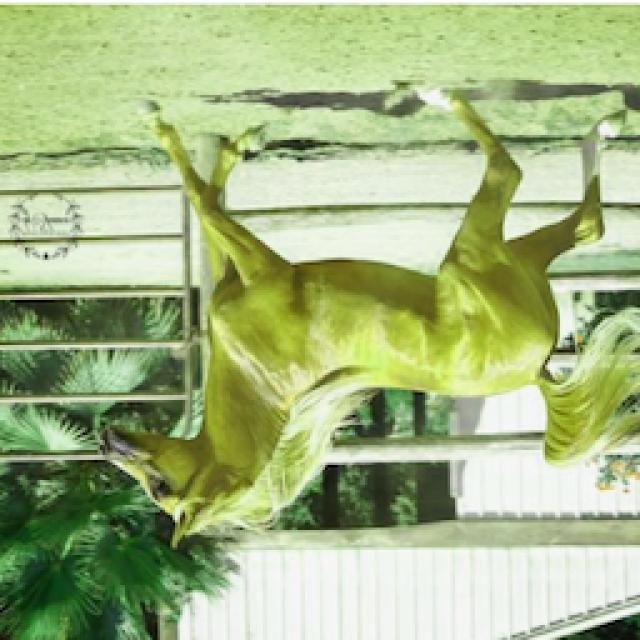Horse: (90, 80, 638, 555)
